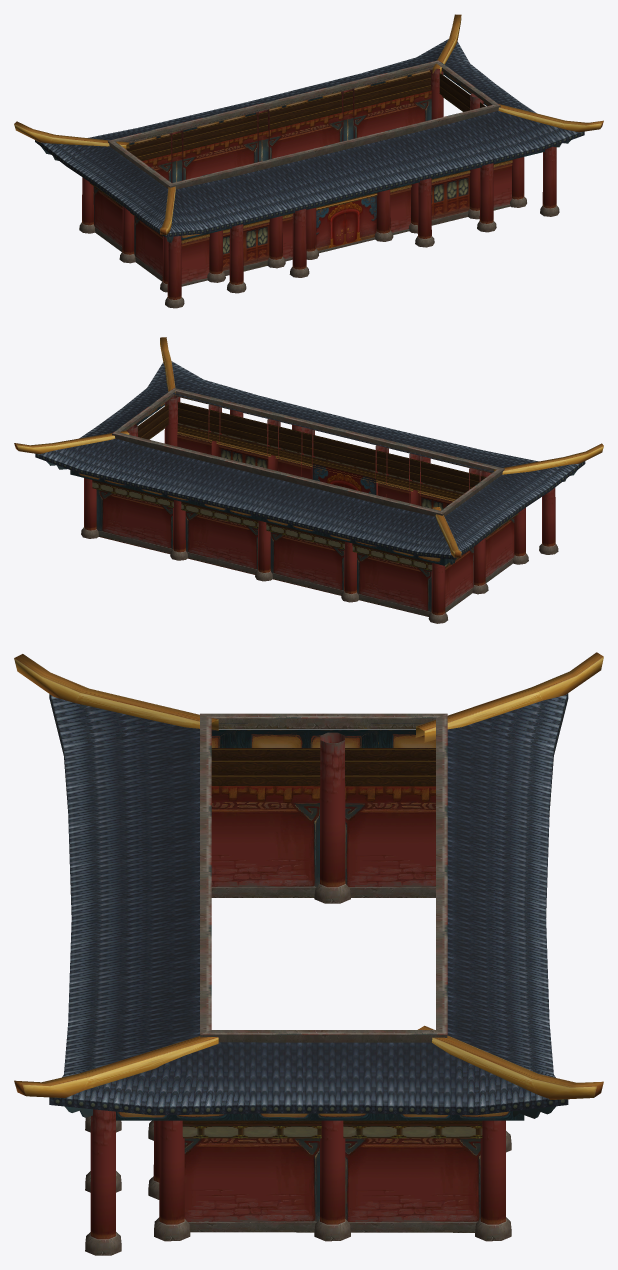
Rendered from environment_Building_Gongdian_001_a.FBX.
3 renders of one model, top to bottom at view 1: azimuth 30°, elevation 25°; view 2: azimuth 150°, elevation 25°; view 3: azimuth 270°, elevation 25°, orthographic. The views are drawn at different scales.
Visible parts, largest first — view 1: environment_Building_Gongdian_001_a03, environment_Building_Gongdian_001_a01, environment_Building_Gongdian_001_a06, environment_Building_Gongdian_001_a02, environment_Building_Gongdian_001_a05, environment_Building_Gongdian_001_a07, environment_Building_Gongdian_001_a04; view 2: environment_Building_Gongdian_001_a03, environment_Building_Gongdian_001_a01, environment_Building_Gongdian_001_a06, environment_Building_Gongdian_001_a02, environment_Building_Gongdian_001_a04, environment_Building_Gongdian_001_a07, environment_Building_Gongdian_001_a05; view 3: environment_Building_Gongdian_001_a01, environment_Building_Gongdian_001_a03, environment_Building_Gongdian_001_a02, environment_Building_Gongdian_001_a06, environment_Building_Gongdian_001_a04.
Boxes of the visible parts, x1,y1,x2,y2 form: environment_Building_Gongdian_001_a03: [41, 60, 570, 308]; environment_Building_Gongdian_001_a01: [35, 39, 584, 237]; environment_Building_Gongdian_001_a06: [89, 71, 512, 241]; environment_Building_Gongdian_001_a02: [14, 14, 603, 234]; environment_Building_Gongdian_001_a05: [223, 173, 469, 270]; environment_Building_Gongdian_001_a07: [316, 196, 376, 250]; environment_Building_Gongdian_001_a04: [129, 70, 544, 243]; environment_Building_Gongdian_001_a03: [46, 388, 577, 623]; environment_Building_Gongdian_001_a01: [35, 361, 585, 559]; environment_Building_Gongdian_001_a06: [92, 402, 518, 570]; environment_Building_Gongdian_001_a02: [14, 337, 603, 557]; environment_Building_Gongdian_001_a04: [70, 397, 468, 565]; environment_Building_Gongdian_001_a07: [312, 463, 376, 494]; environment_Building_Gongdian_001_a05: [219, 444, 452, 509]; environment_Building_Gongdian_001_a01: [49, 693, 568, 1115]; environment_Building_Gongdian_001_a03: [64, 713, 555, 1255]; environment_Building_Gongdian_001_a02: [14, 652, 603, 1099]; environment_Building_Gongdian_001_a06: [182, 748, 482, 1138]; environment_Building_Gongdian_001_a04: [116, 729, 524, 1120].
Bounding box in the file's own units: 1823 × 386 × 1046.
Materials: 7 (7 with a texture image).
